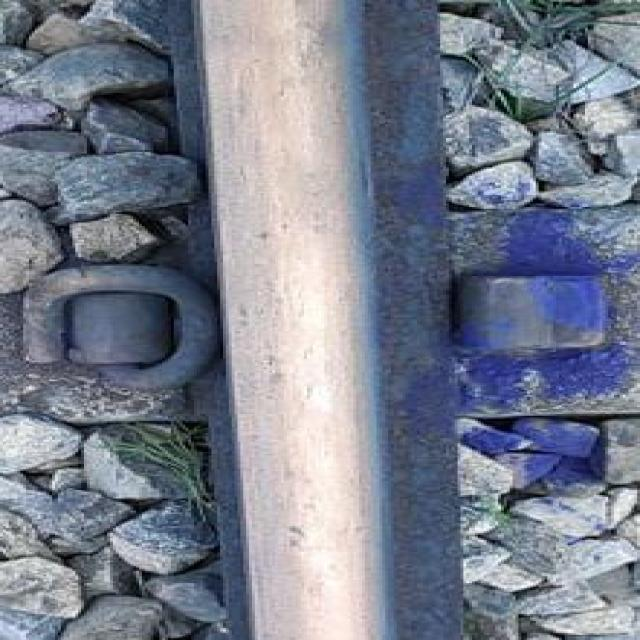Good Fasteners: (0, 226, 221, 426)
Missing Fastener: (454, 270, 634, 369)
